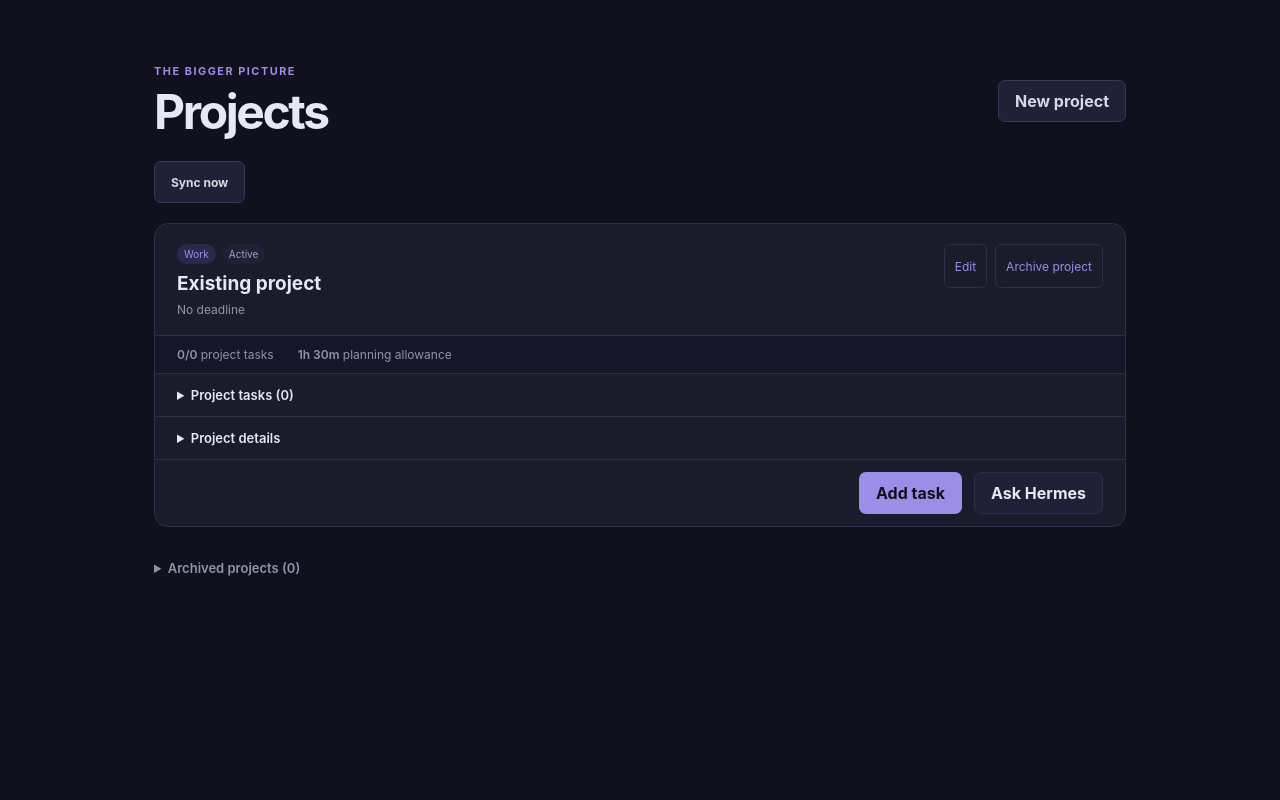
Scenario: Hermes preview errors preserve the custom prompt without saving
The image size is (1280, 800).
Click the button "Ask Hermes".
click(1038, 493)  # box [974,472,1103,514]
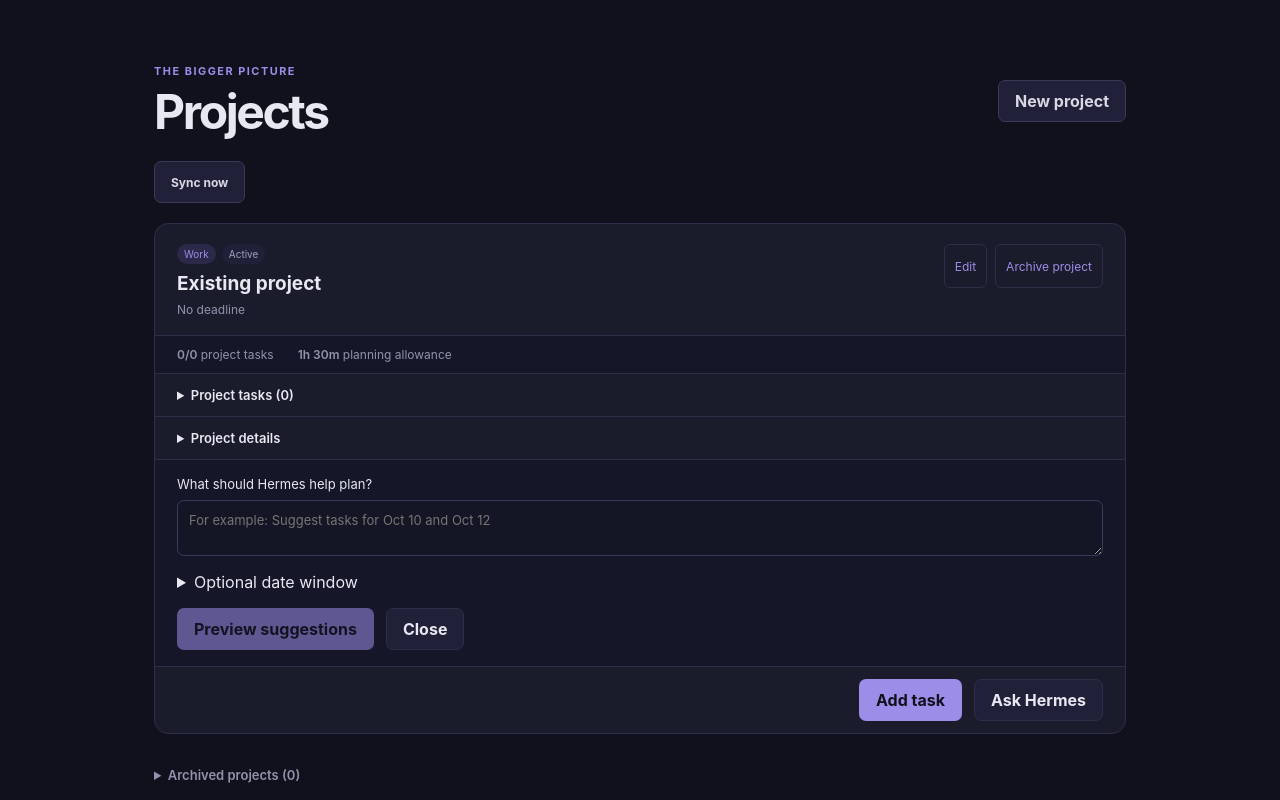
Type "Please use Oct 10 and Oct 12" into the text box labelled "What should Hermes help plan?".
click(640, 528); type("Please use Oct 10 and Oct 12")  # box [177,500,1103,556]
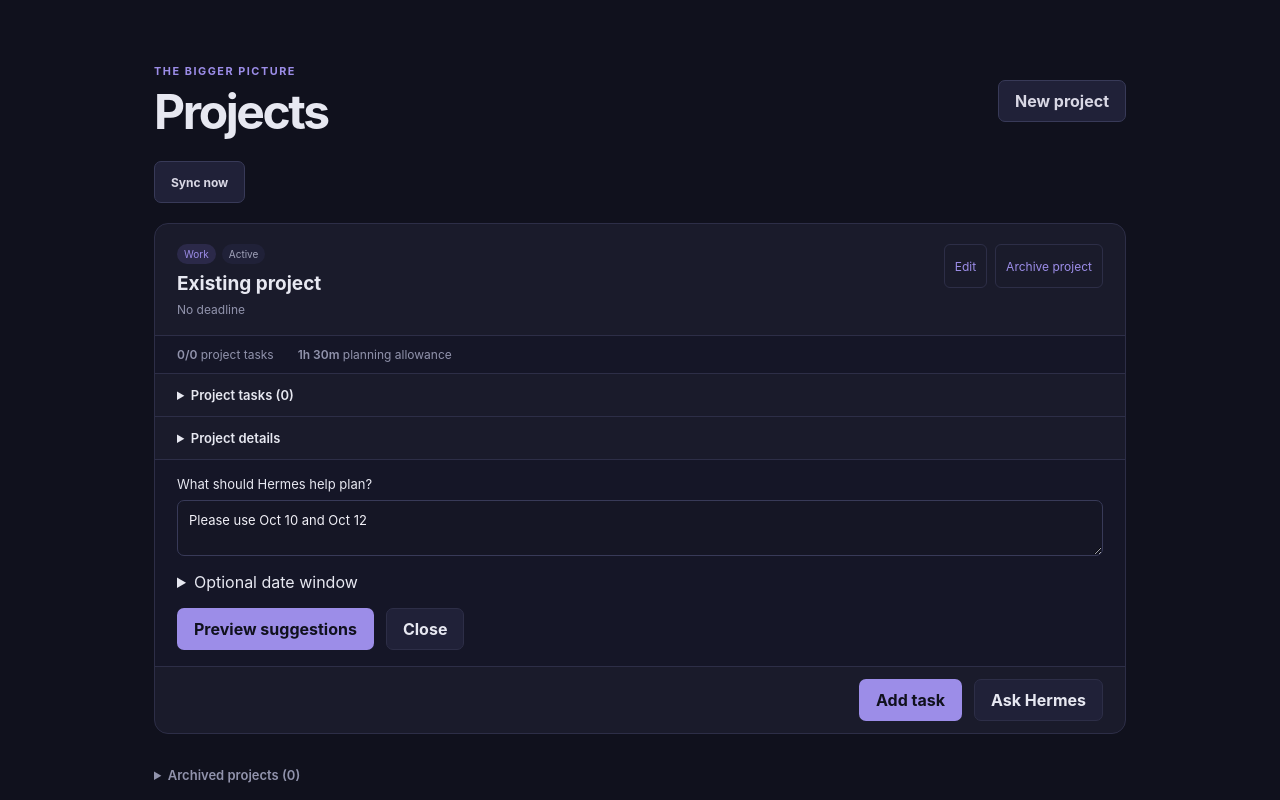
Click the button "Preview suggestions".
click(275, 629)  # box [177,608,374,650]
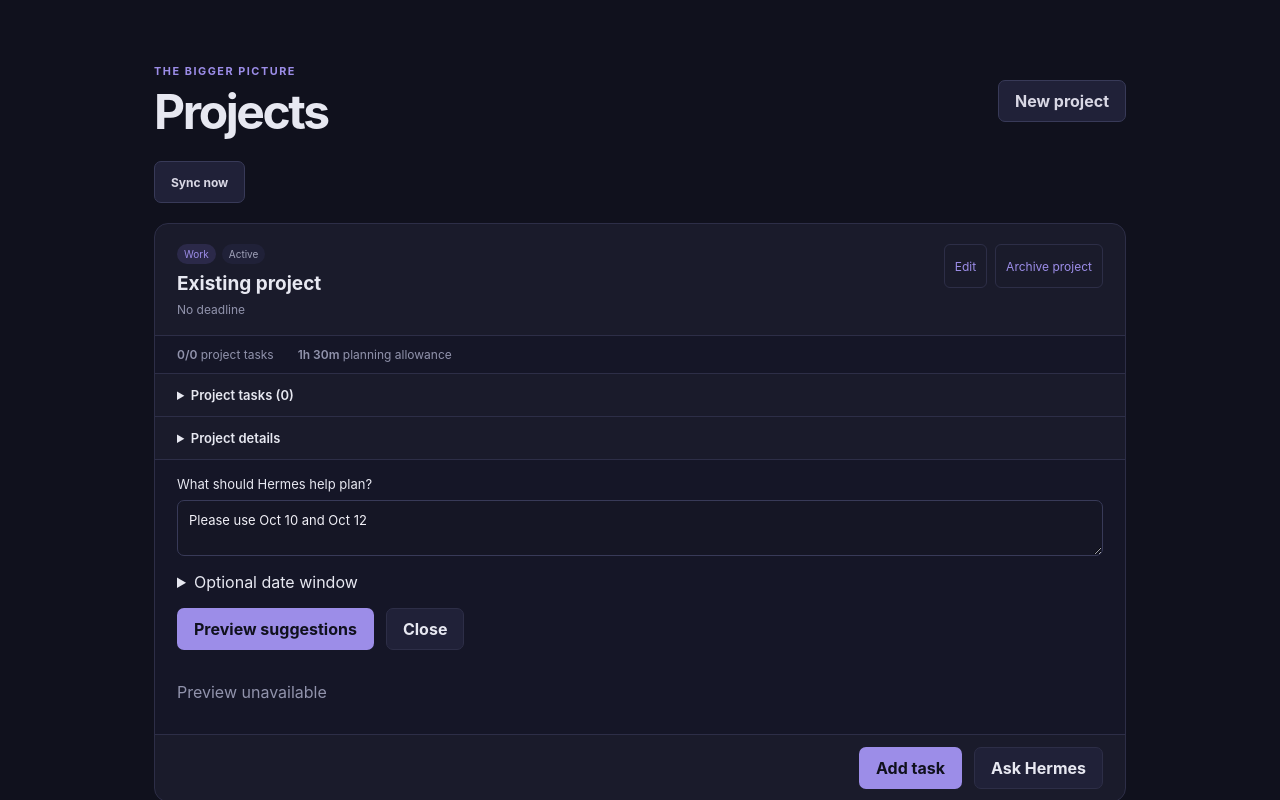
Now the message reads "Preview unavailable", box [177,682,327,702]
